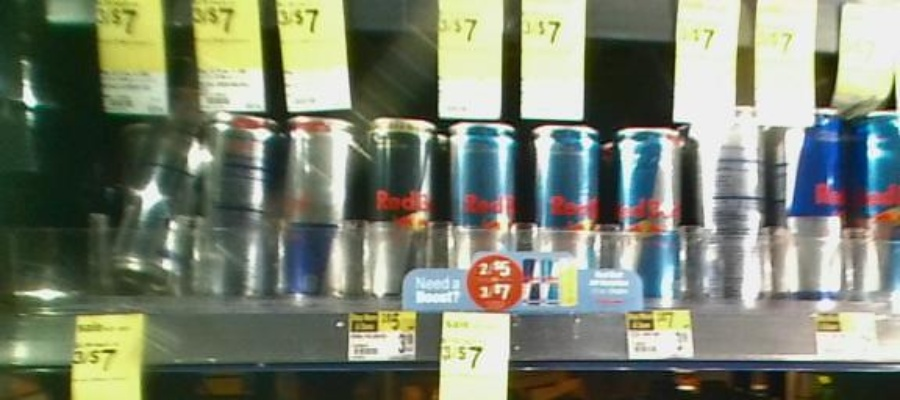bottle: (695, 96, 770, 311), (364, 113, 441, 318), (777, 104, 850, 318), (612, 113, 688, 318), (283, 111, 353, 311), (209, 110, 277, 314), (530, 116, 600, 306), (450, 115, 517, 311), (853, 105, 900, 322)
